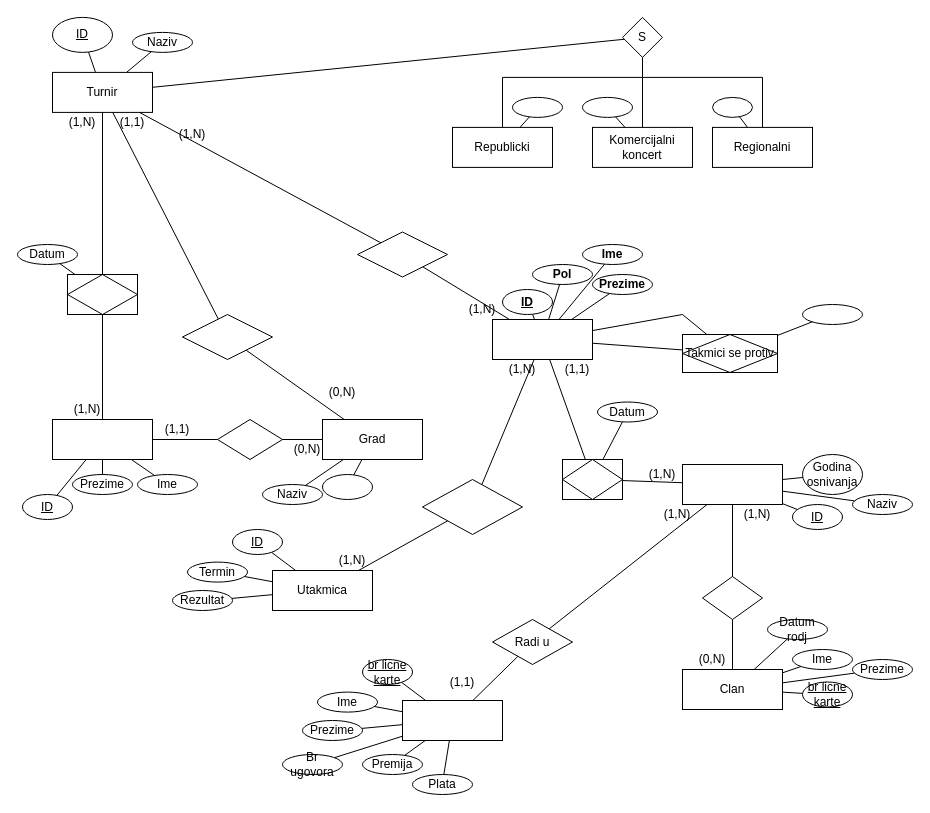
Image size: 930x813. Some labels were removed from this diagram. The centre of each missing label's shape, as x and y in pixels:
Igra na: the point at 472,506
Klasa: the point at 607,106
Klub: the point at 732,484
Odrzava se u: the point at 227,337
Organizator: the point at 102,439
Organizuje: the point at 102,294
Potice iz: the point at 249,439
PTT: the point at 347,487
Rang: the point at 537,106
Regija: the point at 732,106
Takmicar: the point at 542,339
Trener: the point at 452,720
Ucestvuje: the point at 402,254
Uclanjen: the point at 592,479
Vreme: the point at 832,314
Zaposljava: the point at 732,598
